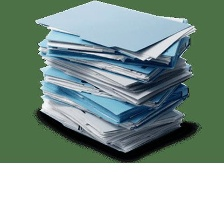book: (32, 0, 201, 156)
